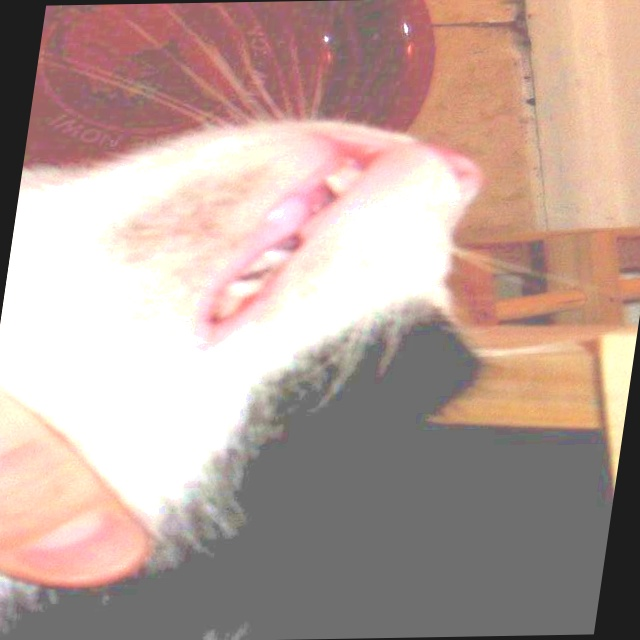acne: (108, 161, 278, 289)
